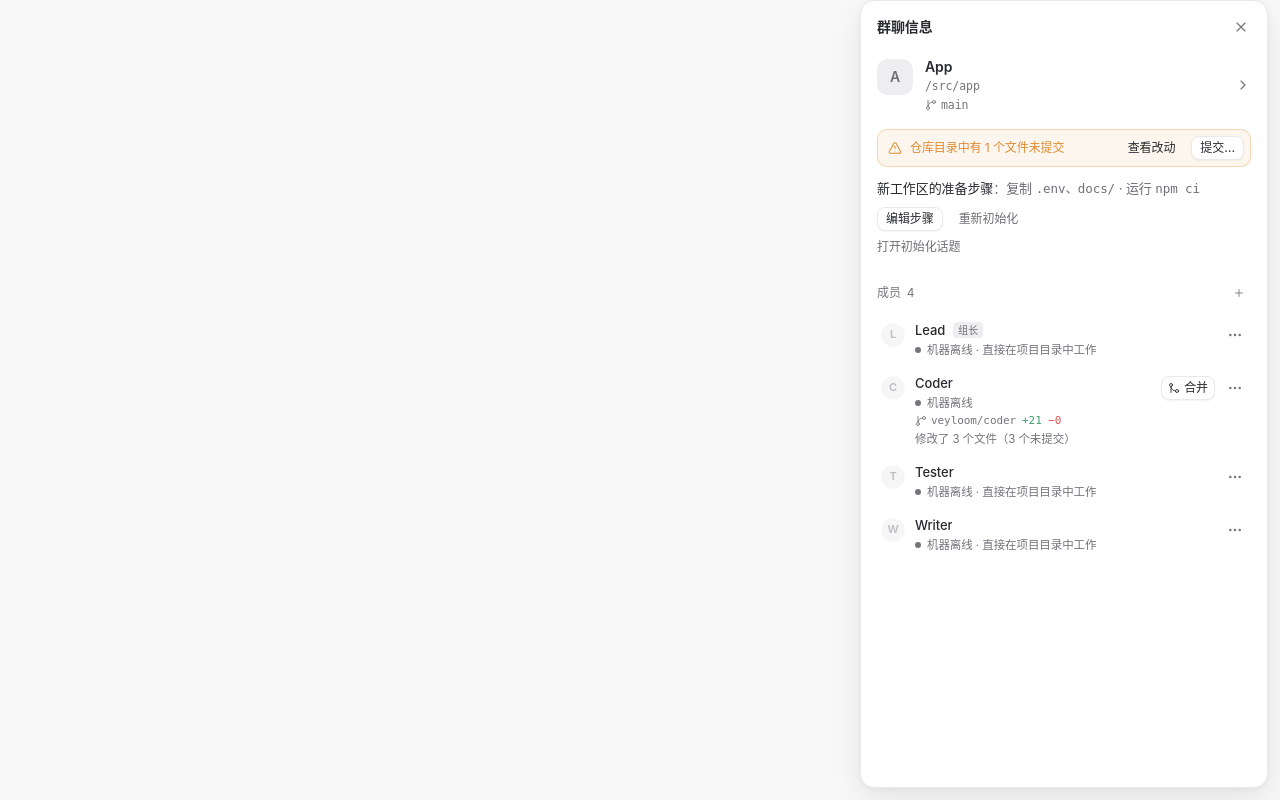
Test: what a merge takes, and a branch reset to the main line › resets a member’s branch to the main line once a person confirms
This screenshot has width=1280, height=800.
Expected: the button "合并" is shown, [1161,376,1215,400]
Click the 2nd button named "更多": (1235, 388) [1219,372,1251,404]
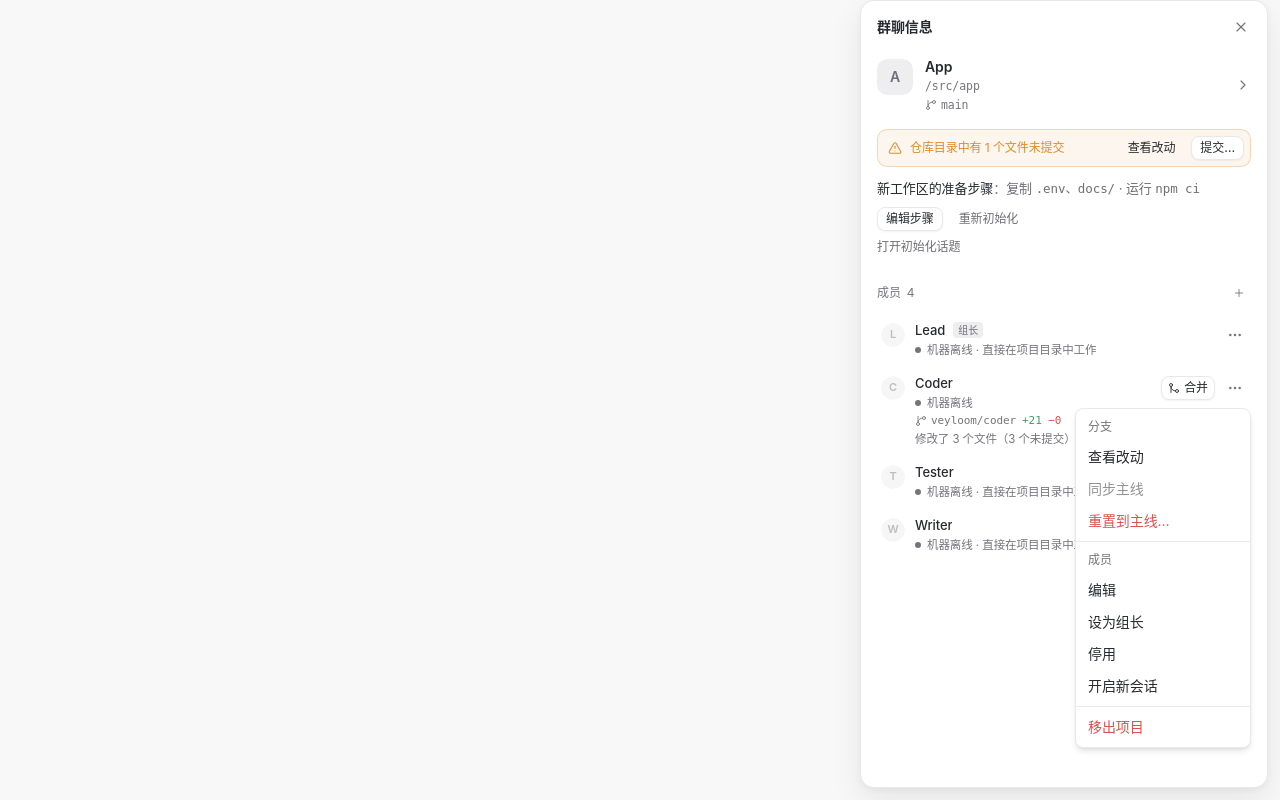
Click the menu item "重置到主线…": (1129, 520) [1088,512,1170,529]
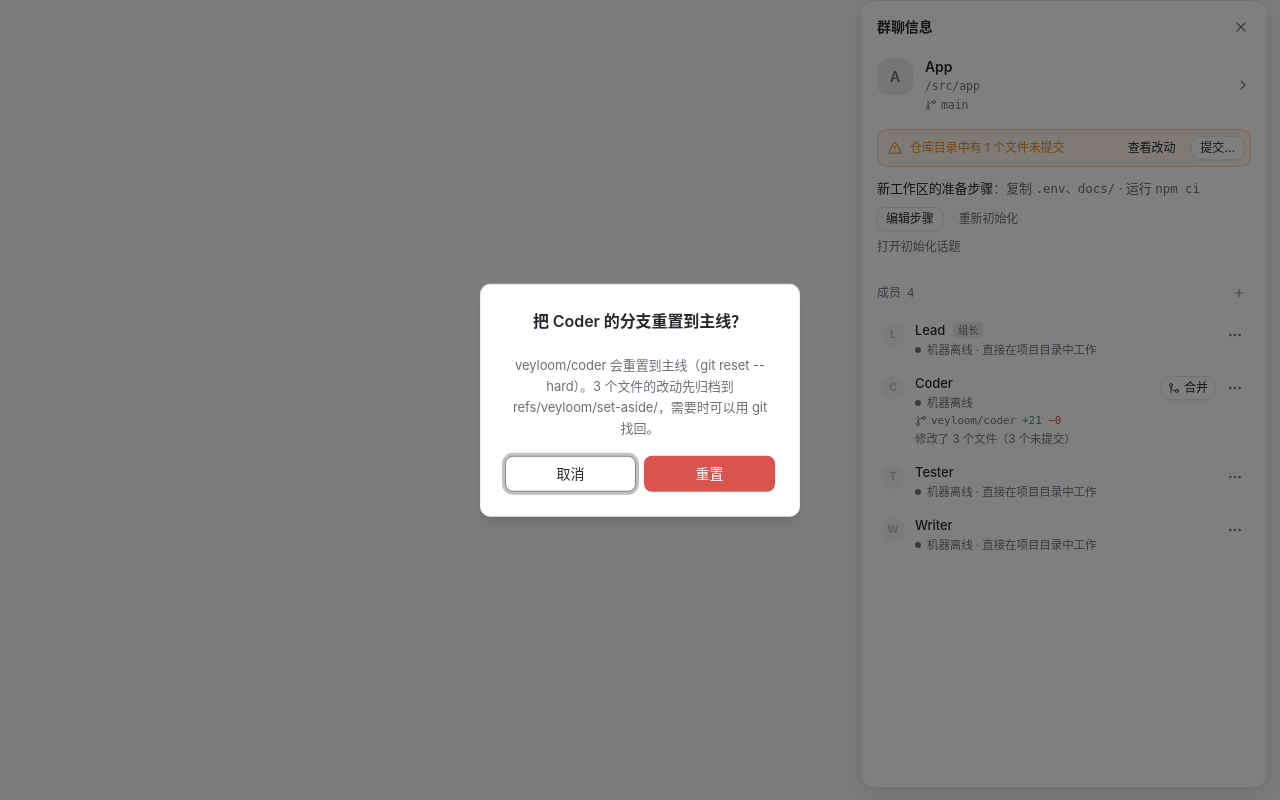
Expected: the dialog "把 Coder 的分支重置到主线？" shows "veyloom/coder 会重置到主线（git reset --hard）。3 个文件的改动先归档到 refs/veyloom/set-aside/", [513,357,767,436]
Click the button "重置": (710, 473) [644,455,775,491]
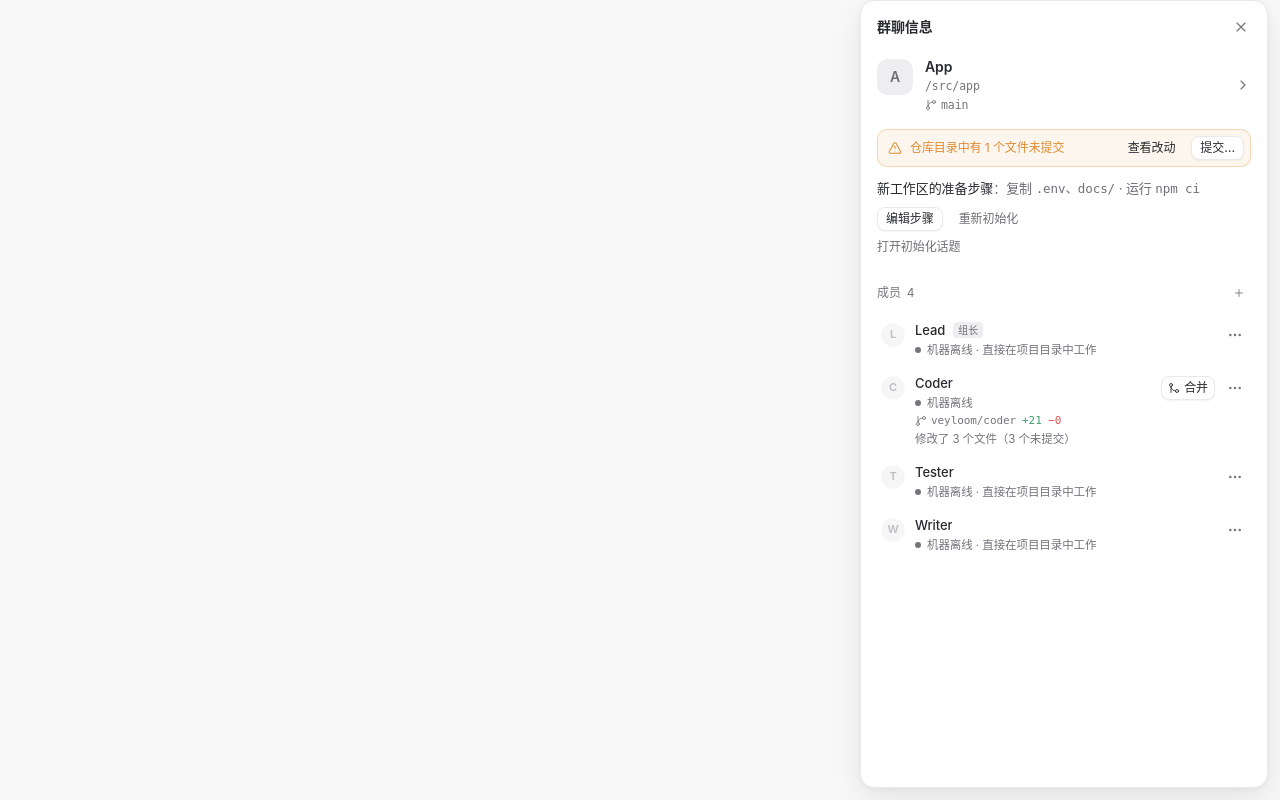
Expected: the dialog is gone
